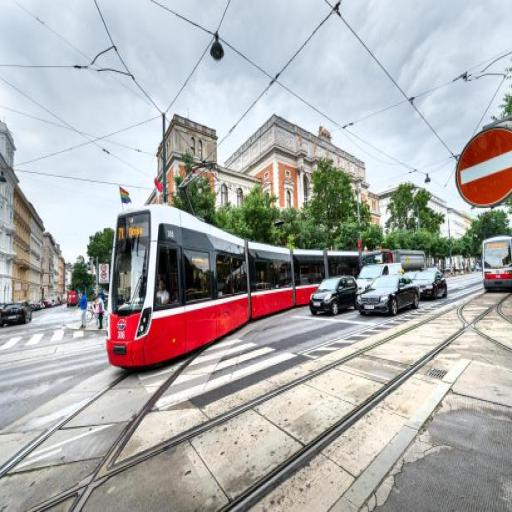Flexity: (103, 199, 362, 370)
